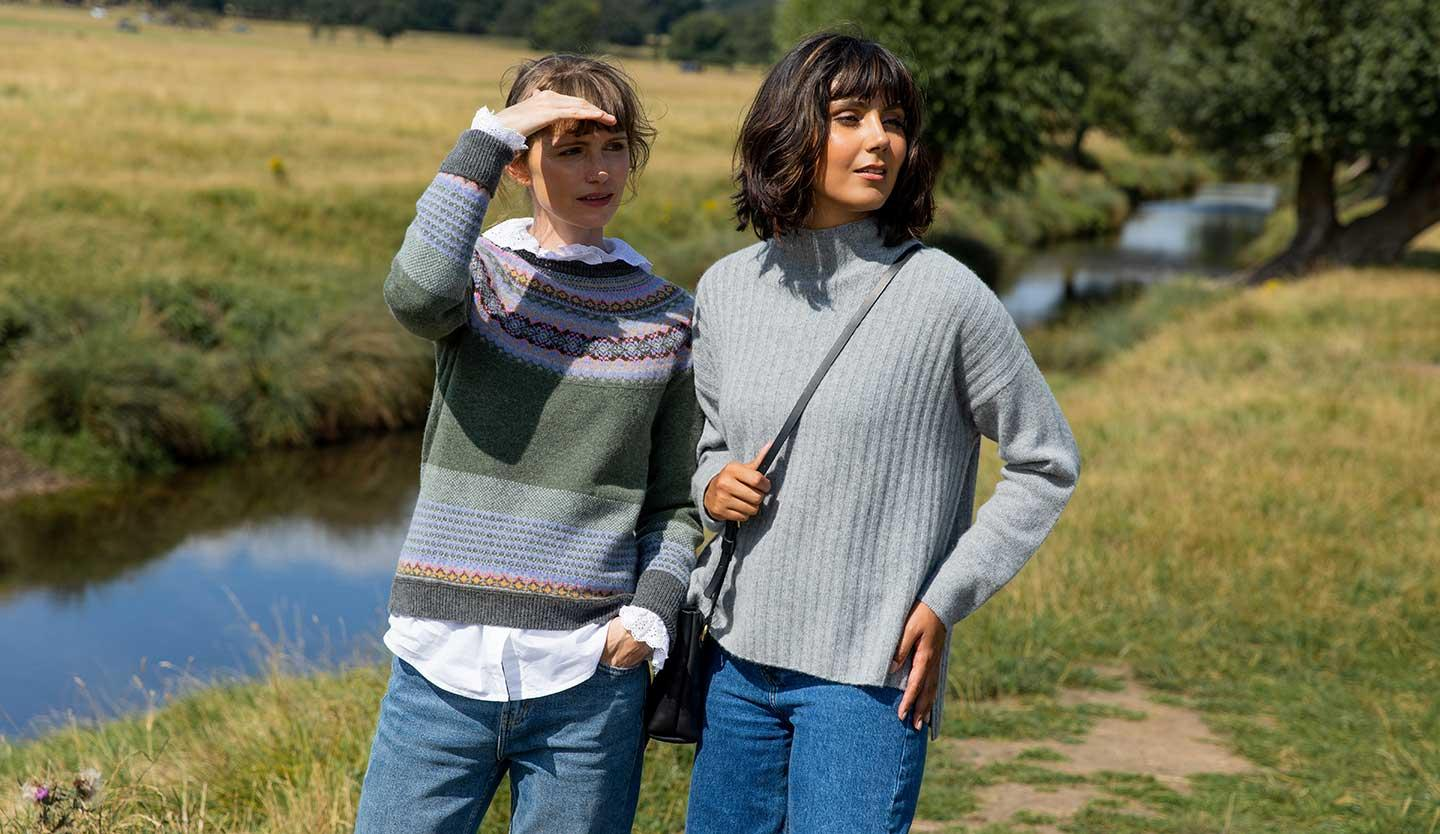sweater: (689, 216, 1081, 702), (387, 125, 697, 637)
trousers: (355, 630, 651, 834), (678, 646, 931, 834)
